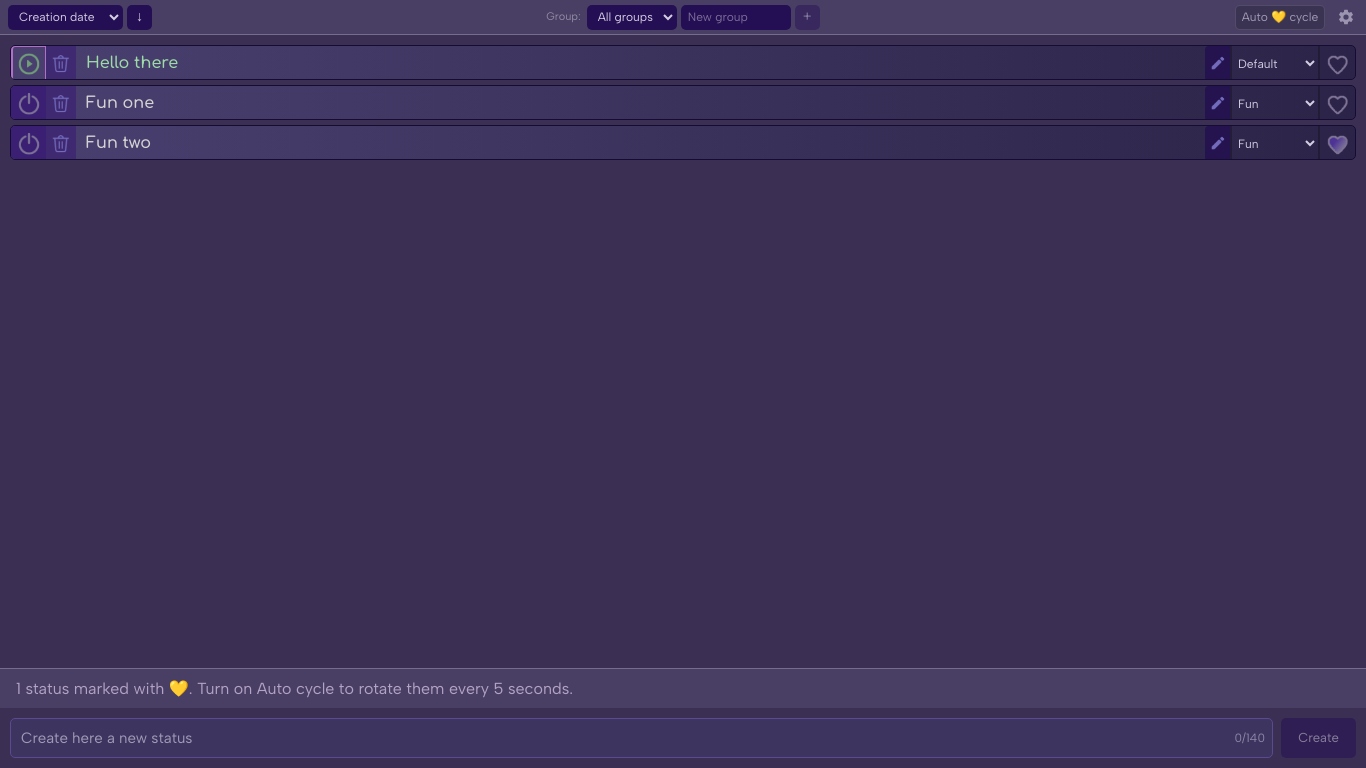
Test case: StatusPage › saves an inline edit on Enter and cancels on Escape
Click the button named "Edit Hello there".
click(1218, 64)  # box [1205,46,1230,81]
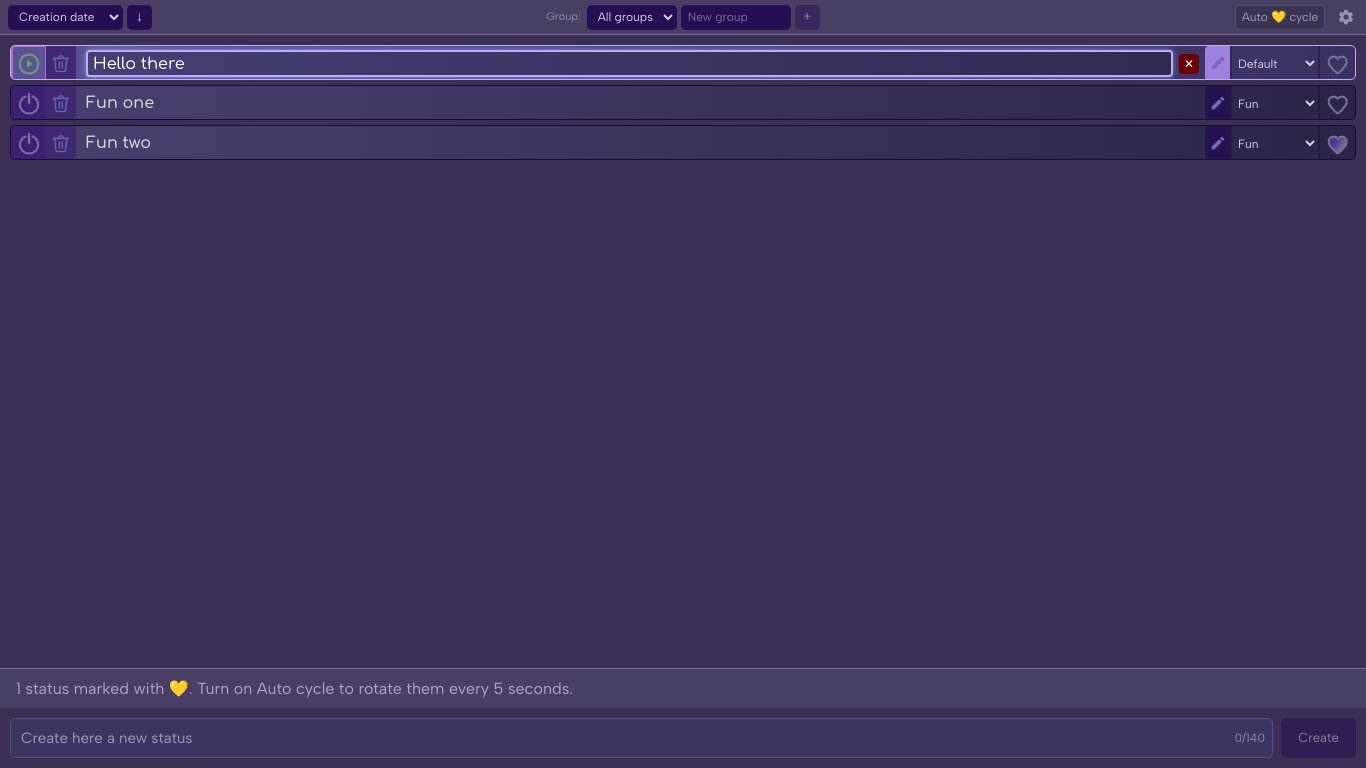
Replace the text in the field named "Edit status text" with "Hello edited" at coordinates (630, 64), box [86,50,1173,77]
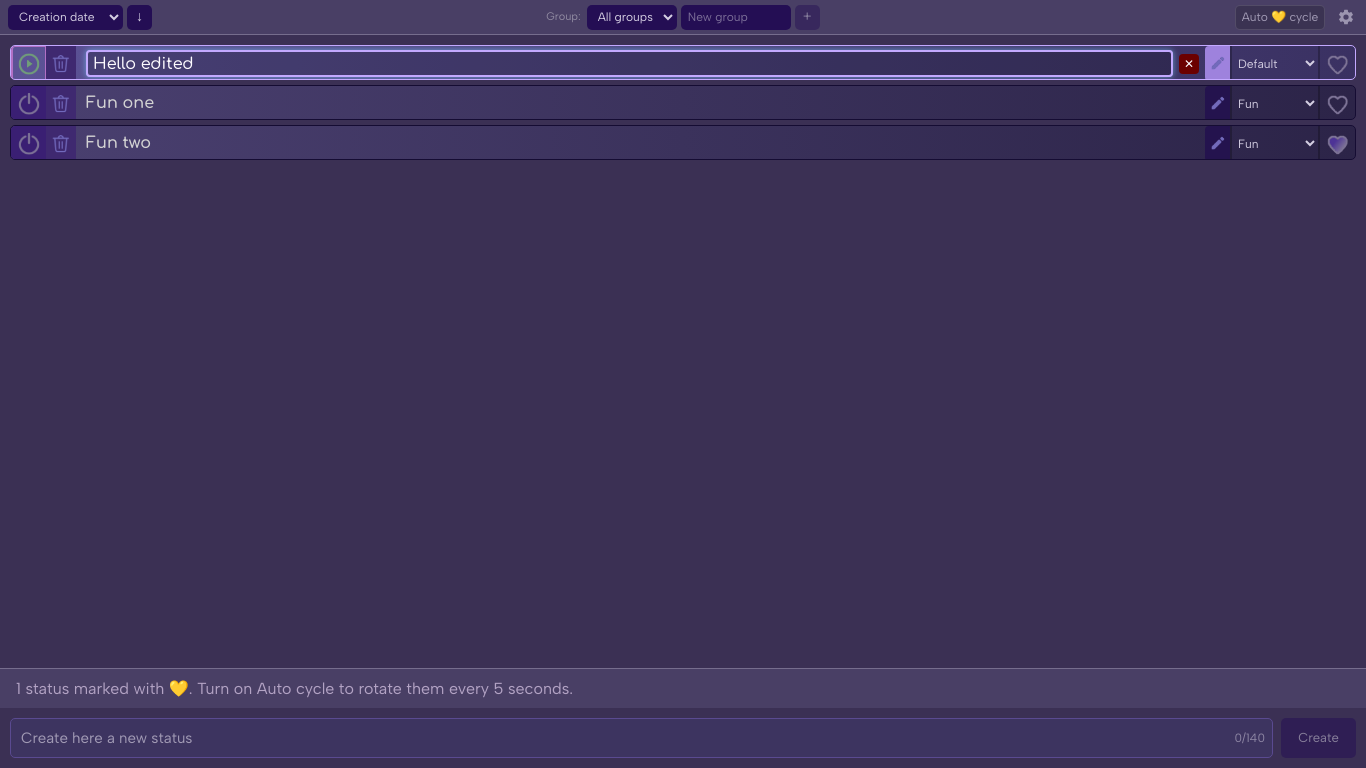
Press Enter in the field named "Edit status text", box [86,50,1173,77]
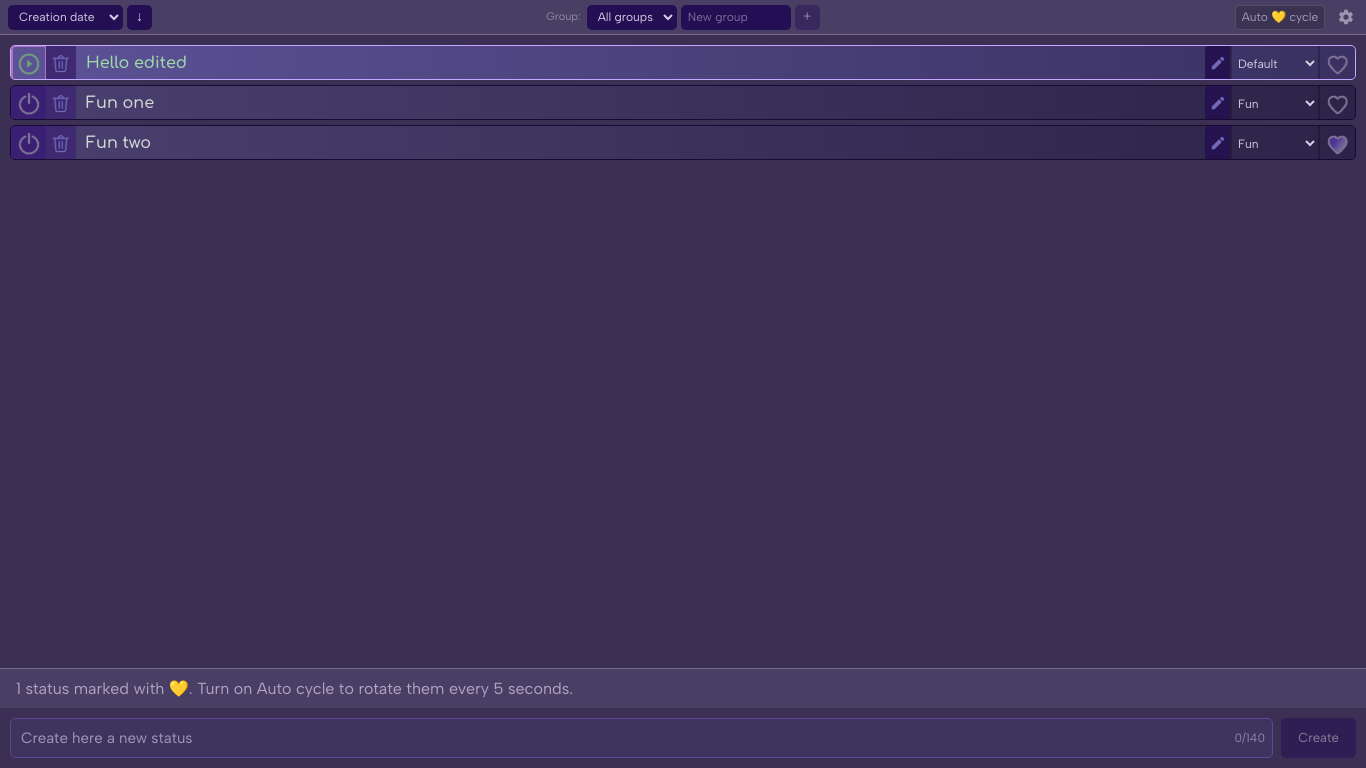
expect the text "Hello edited" is shown: met, box [86,53,187,74]
Click the button named "Edit Hello edited".
click(1218, 64)  # box [1205,46,1230,81]
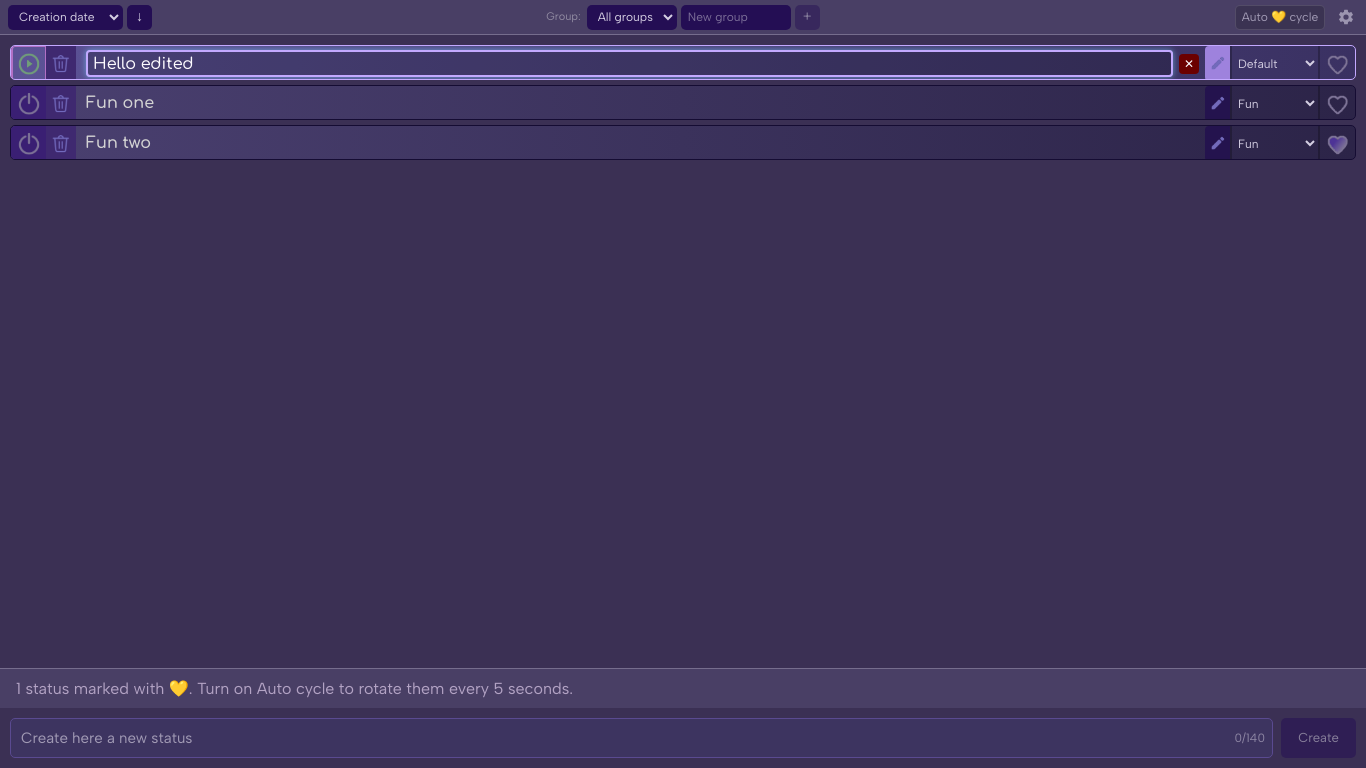
Replace the text in the field named "Edit status text" with "discarded" at coordinates (630, 64), box [86,50,1173,77]
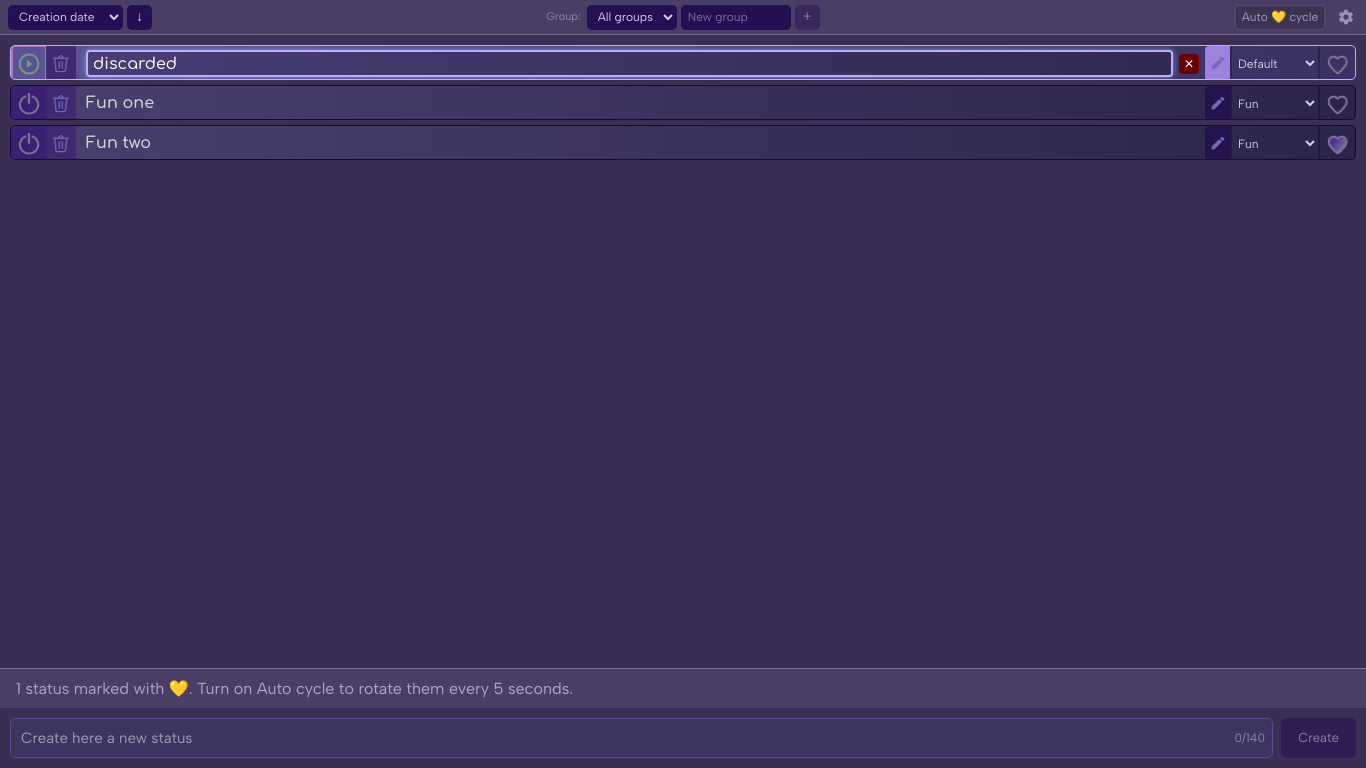
Press Escape in the field named "Edit status text", box [86,50,1173,77]
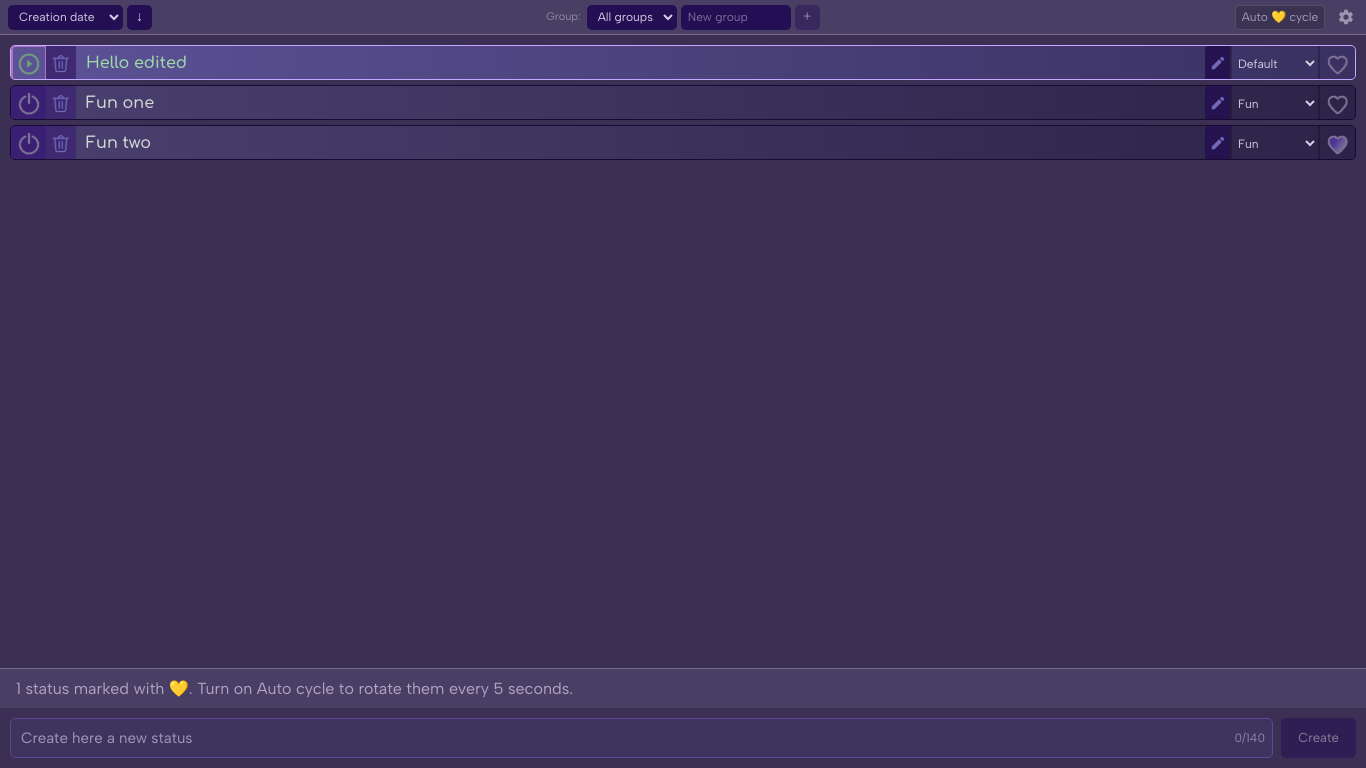
expect the text "discarded" is not shown: met
expect the text "Hello edited" is shown: met, box [86,53,187,74]
